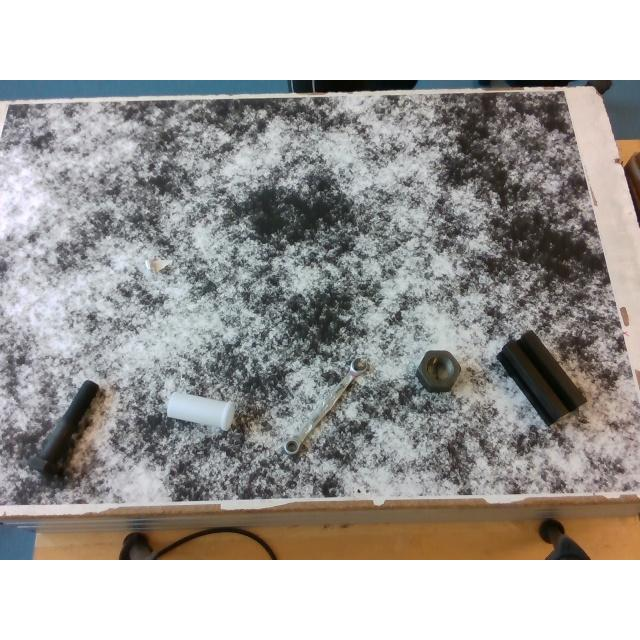M20_100: (29, 380, 100, 474)
M30: (416, 350, 459, 392)
S40_40_B: (497, 332, 585, 424)
Spacer: (166, 392, 234, 428)
Wrench: (284, 356, 372, 456)
